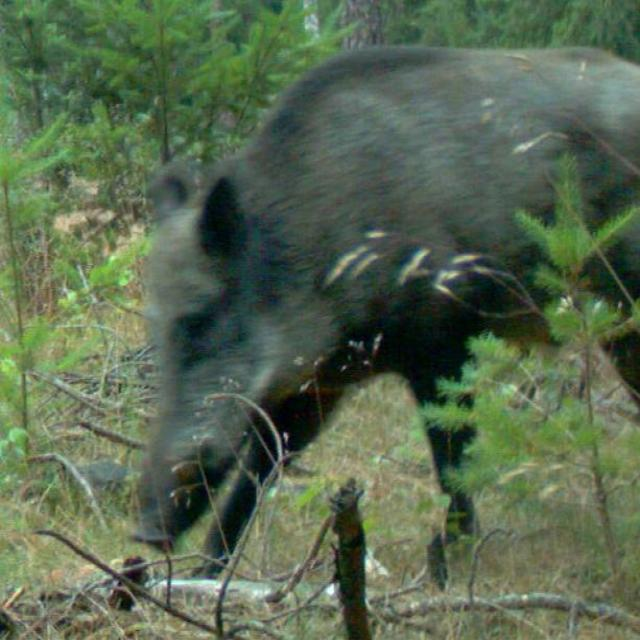pig: (125, 54, 640, 568)
